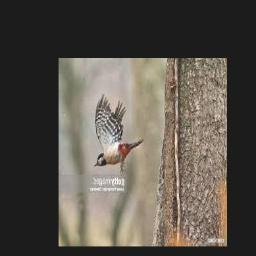Woodpecker: (94, 93, 144, 173)
